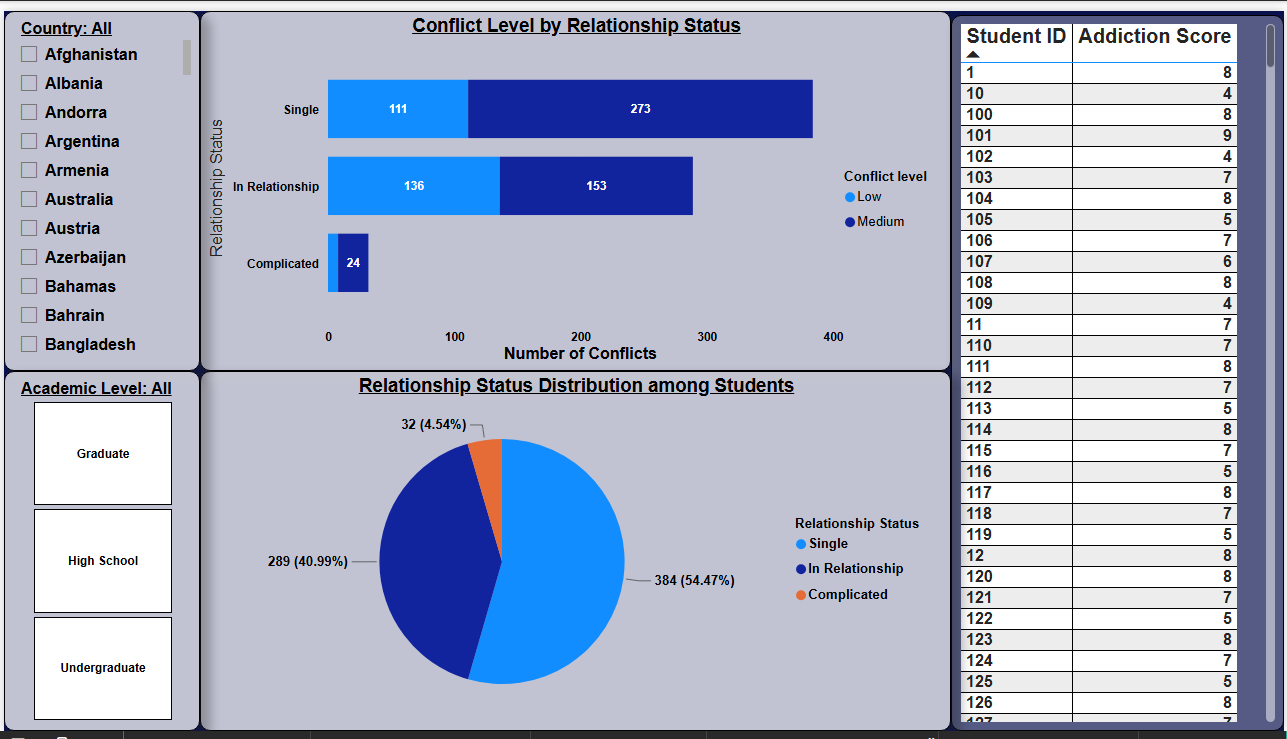

Layout of this report page (visuals, bound fields, positions):
{"tool":"powerbi","page":{"name":"Page 4 : Relationships and conflicts","canvas":[1280,720],"ordinal":3},"visuals":[{"type":"barChart","title":"Conflict Level by Relationship Status ","fields":{"Category":["Student Details.Relationship_Status"],"Y":["CountNonNull(Student Details.Conflict level)"],"Series":["Student Details.Conflict level"]},"box":[196.3,0,750.9,359.5],"z":0},{"type":"tableEx","fields":{"Values":["Platform Details.Student_ID","Sum(Student Details.Addicted_Score)"]},"box":[947.3,3.8,332.7,716.5],"z":1000},{"type":"pieChart","title":"Relationship Status Distribution among Students","fields":{"Category":["Student Details.Relationship_Status"],"Y":["CountNonNull(Platform Details.Student_ID)"]},"box":[196.3,359.5,750.9,360.8],"z":2000},{"type":"slicer","fields":{"Values":["Student Details.Country"]},"box":[0,0,196.3,359.5],"z":3000},{"type":"slicer","fields":{"Values":["Student Details.Academic_Level"]},"box":[0,360,196,360],"z":4000}]}

Visuals, with their boxes in screenshot pixels (x1, y1, x2, y2), scaled from the page's 1280x720 canvas onto the 1287x739 screenshot:
"Conflict Level by Relationship Status " barChart: x1=197, y1=0, x2=952, y2=369
tableEx - Platform Details.Student_ID x Sum(Student Details.Addicted_Score): x1=952, y1=4, x2=1286, y2=738
"Relationship Status Distribution among Students" pieChart: x1=197, y1=369, x2=952, y2=738
slicer - Student Details.Country: x1=0, y1=0, x2=197, y2=369
slicer - Student Details.Academic_Level: x1=0, y1=369, x2=197, y2=738
